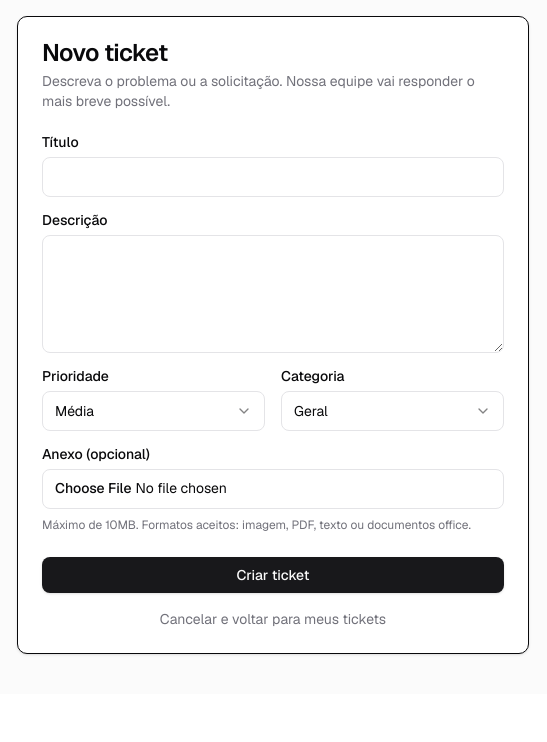
Test: NovoTicketPage (SPEC-06) › exibe mensagem de erro amigável quando a criação falha na API
Type "Erro ao emitir nota fiscal" into the field labelled "Título" at (273, 177), box [42,157,504,197]
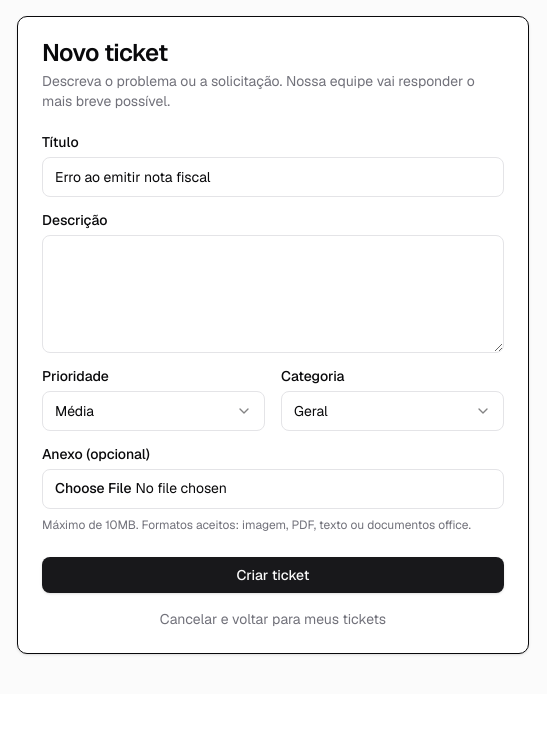
Type "O sistema retorna erro 500 ao tentar emitir a nota." into the text box labelled "Descrição" at (273, 294), box [42,235,504,353]
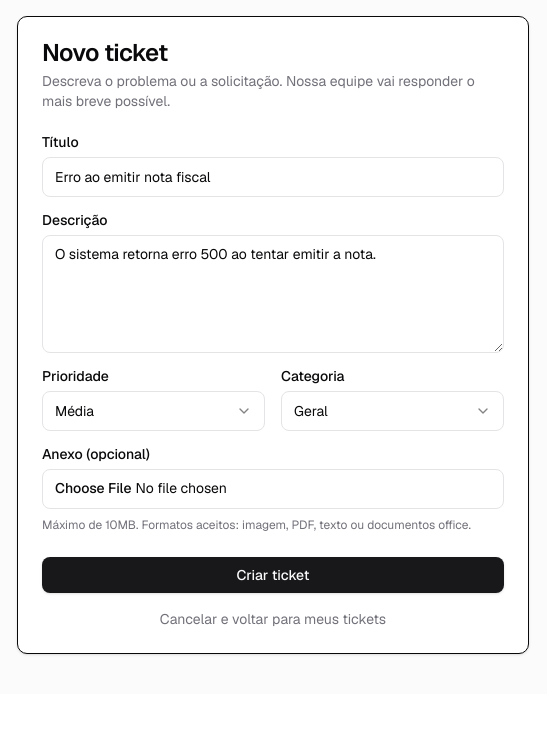
Click the button "Criar ticket" at (273, 575), box [42,557,504,593]
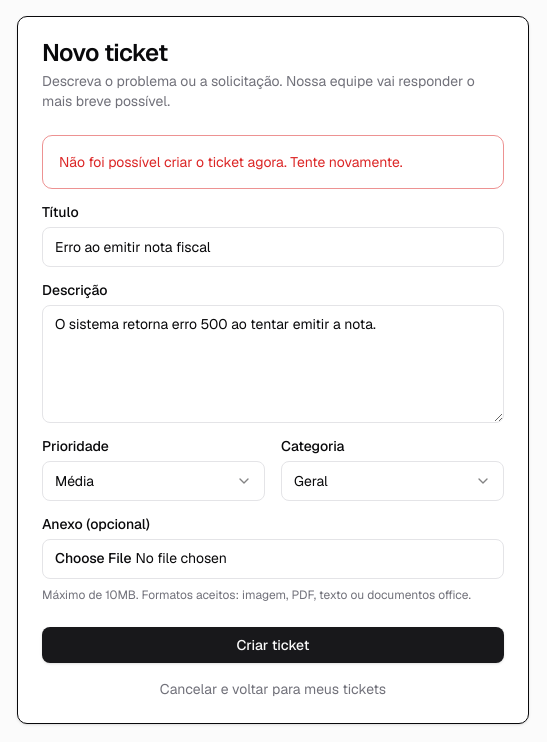
Result: the message shows "Não foi possível criar o ticket" at [59,153,403,171]
